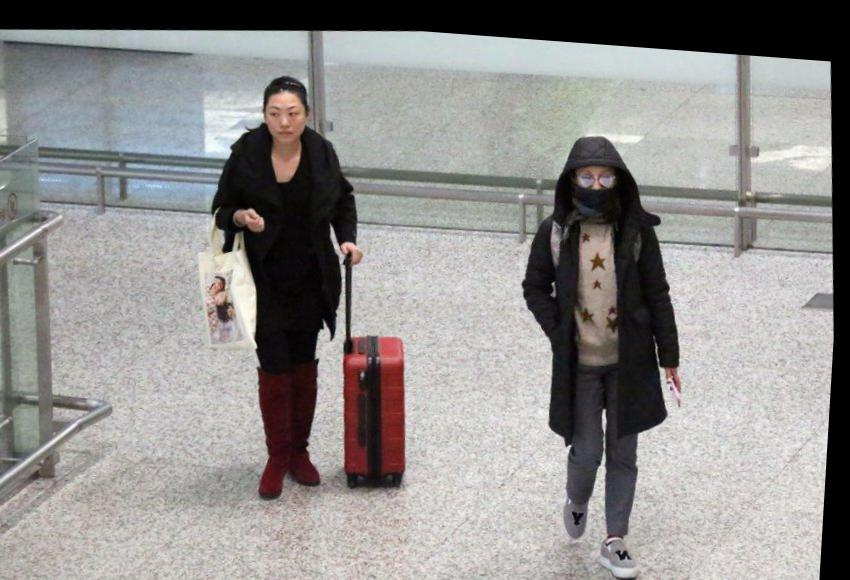NONE: (267, 95, 308, 137)
WRONG: (575, 155, 626, 207)
